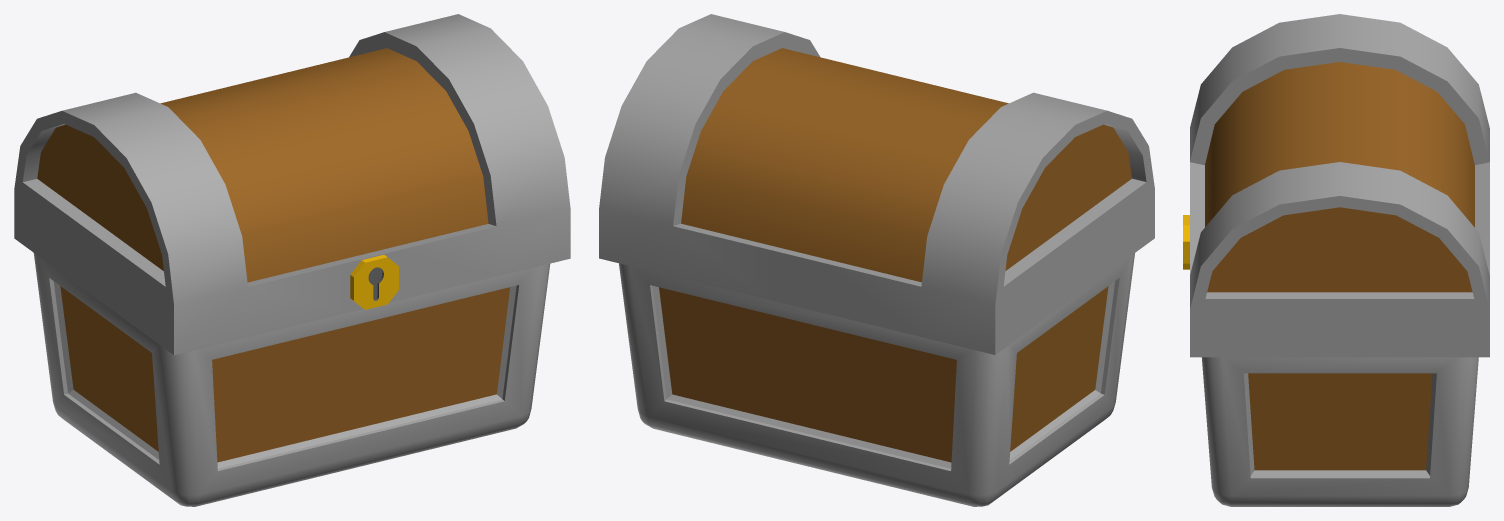
File: Chest_4.fbx
The picture shows the model from 3 angles, left to right: view 1: azimuth 30°, elevation 25°; view 2: azimuth 150°, elevation 25°; view 3: azimuth 270°, elevation 25°; orthographic projection. The views are drawn at different scales.
Parts seen in each view (by area): view 1: Chest_4 Door, Chest_4; view 2: Chest_4 Door, Chest_4; view 3: Chest_4 Door, Chest_4.
Part boxes in pixels (<box>): Chest_4 Door: <box>14,14,570,355</box>; Chest_4: <box>33,253,550,506</box>; Chest_4 Door: <box>599,14,1154,354</box>; Chest_4: <box>619,253,1134,506</box>; Chest_4 Door: <box>1183,14,1489,357</box>; Chest_4: <box>1201,357,1478,506</box>.
Size of the model in its own units: 0.295 by 0.247 by 0.2103.
